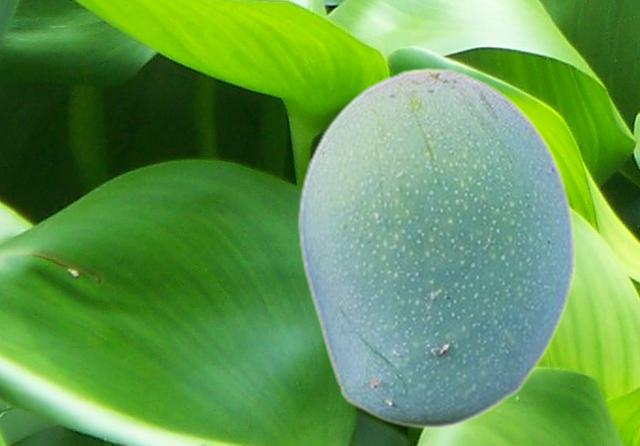green_mango: (296, 66, 576, 429)
